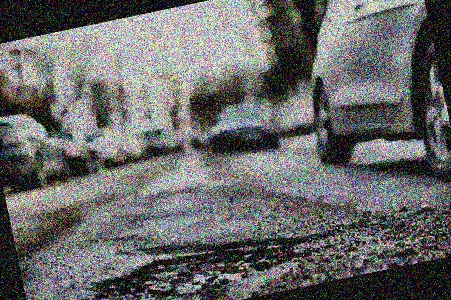pothole: (87, 213, 308, 300)
